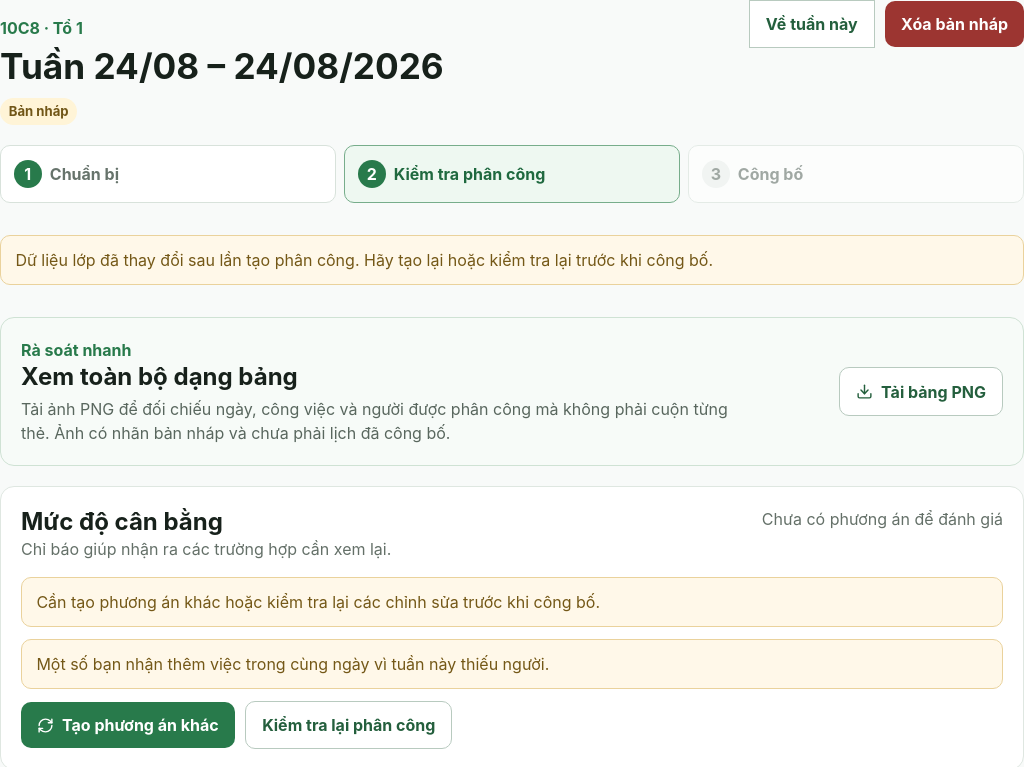
Test case: WeekEditorPage › shows stale, same-day relaxation and locked-group safeguards
Expected: the heading "Tuần 24/08 – 24/08/2026" is shown, [0,46,444,87]
Expected: the text "Dữ liệu lớp đã thay đổi" is shown, [15,250,713,270]
Click the button "1 Chuẩn bị".
click(84, 174)  # box [0,145,336,203]
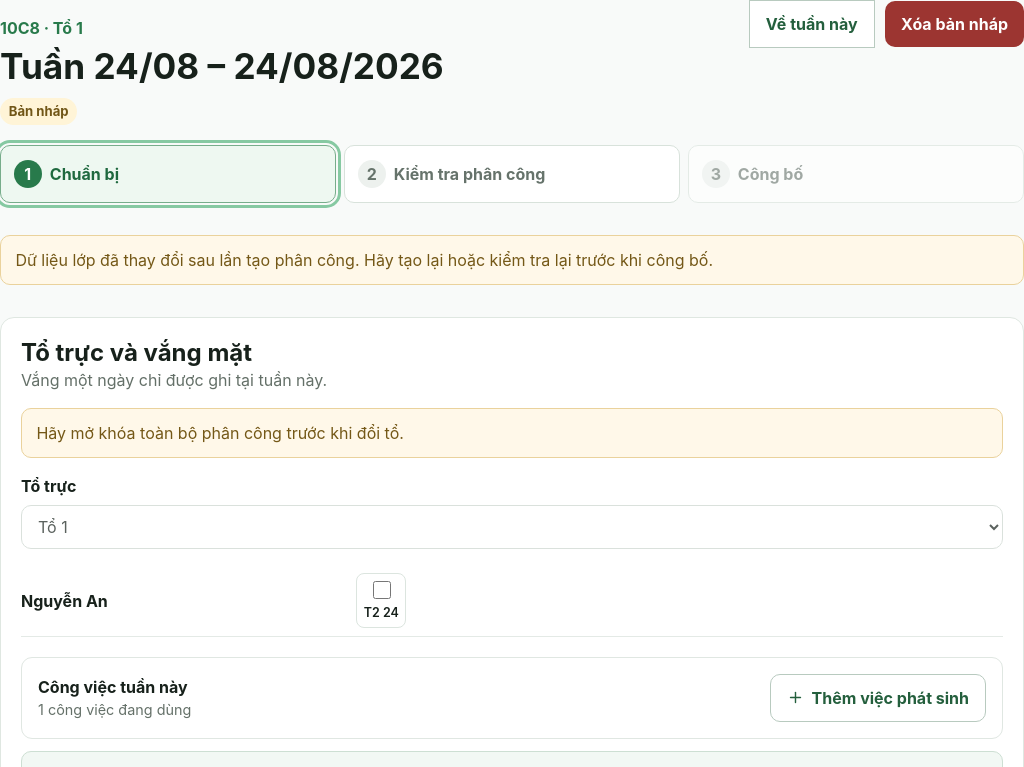
Expected: the text "Hãy mở khóa toàn bộ phân công trước khi đổi tổ." is shown, [21,408,1003,458]
Expected: the dropdown labelled "Tổ trực" is disabled, [21,505,1003,549]
Expected: the checkbox named "Nguyễn An vắng Thứ Hai, ngày 24/08" is shown, [373,581,391,599]
